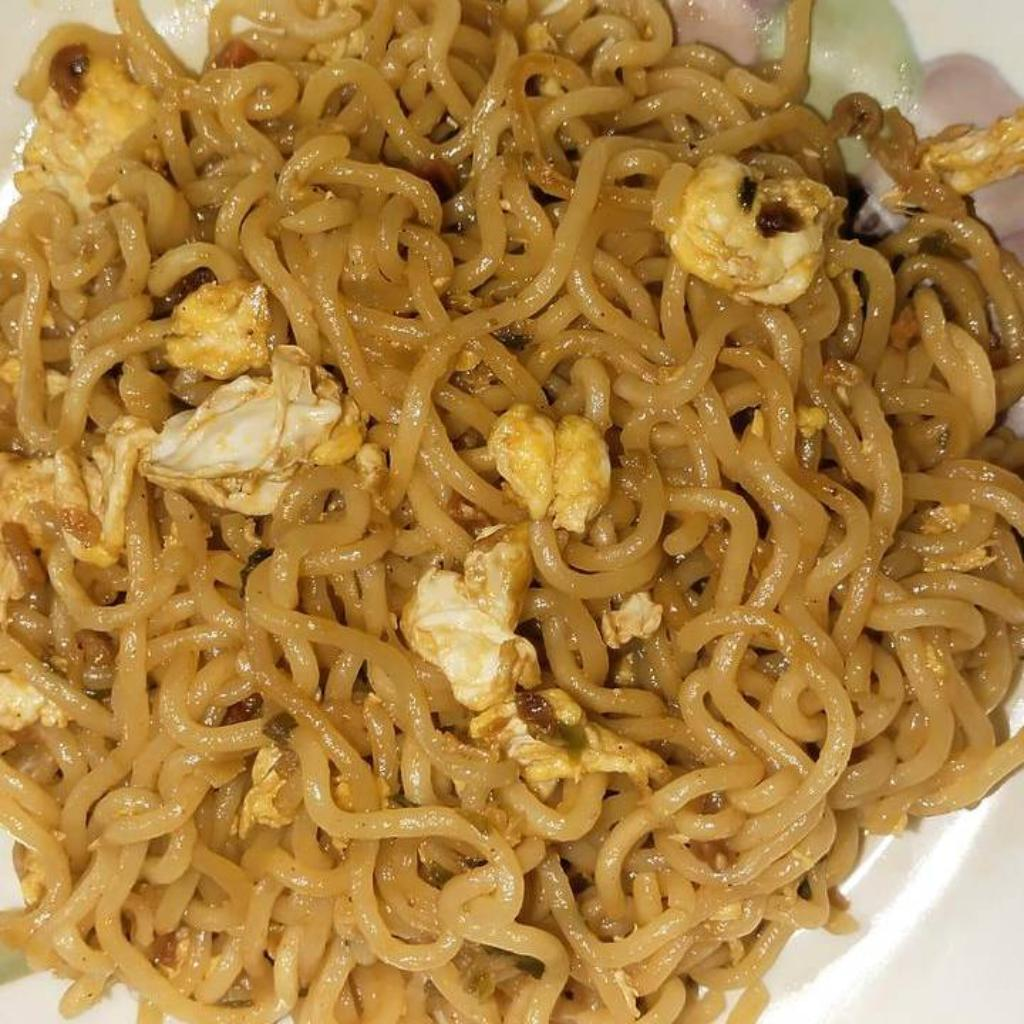noodles: (2, 0, 1021, 1019)
